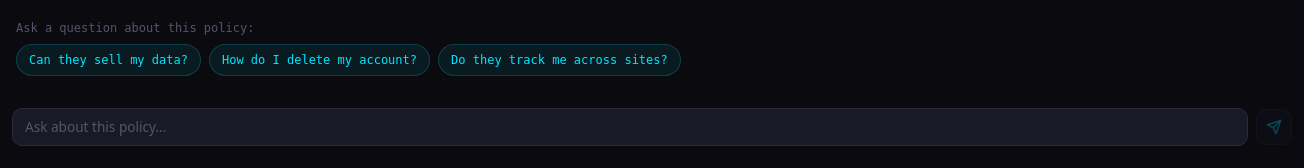
PolicyChat › shows error on fetch failure
Type "Test question" into the field with placeholder "Ask about this policy..." at x=630, y=127, box x1=12 y1=108 x2=1248 y2=146
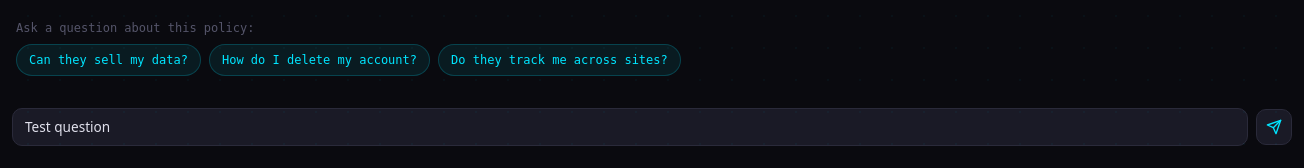
Click the button named "Send message" at x=1274, y=127, box x1=1256 y1=109 x2=1292 y2=145
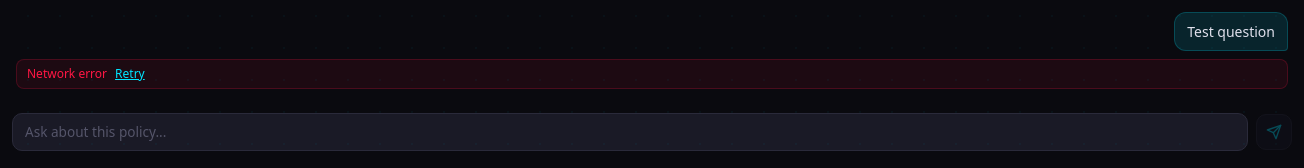
Now the text "Network error" is shown, box x1=27 y1=66 x2=107 y2=82
